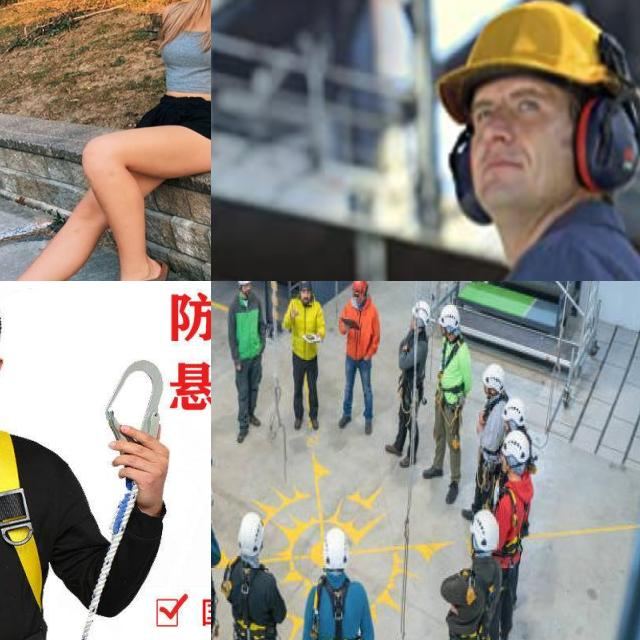Ear-protection: (438, 3, 640, 242)
Harness: (438, 565, 499, 640), (436, 339, 470, 454), (501, 480, 536, 588), (227, 570, 280, 640), (314, 580, 366, 640), (397, 334, 429, 429), (477, 401, 509, 494)
